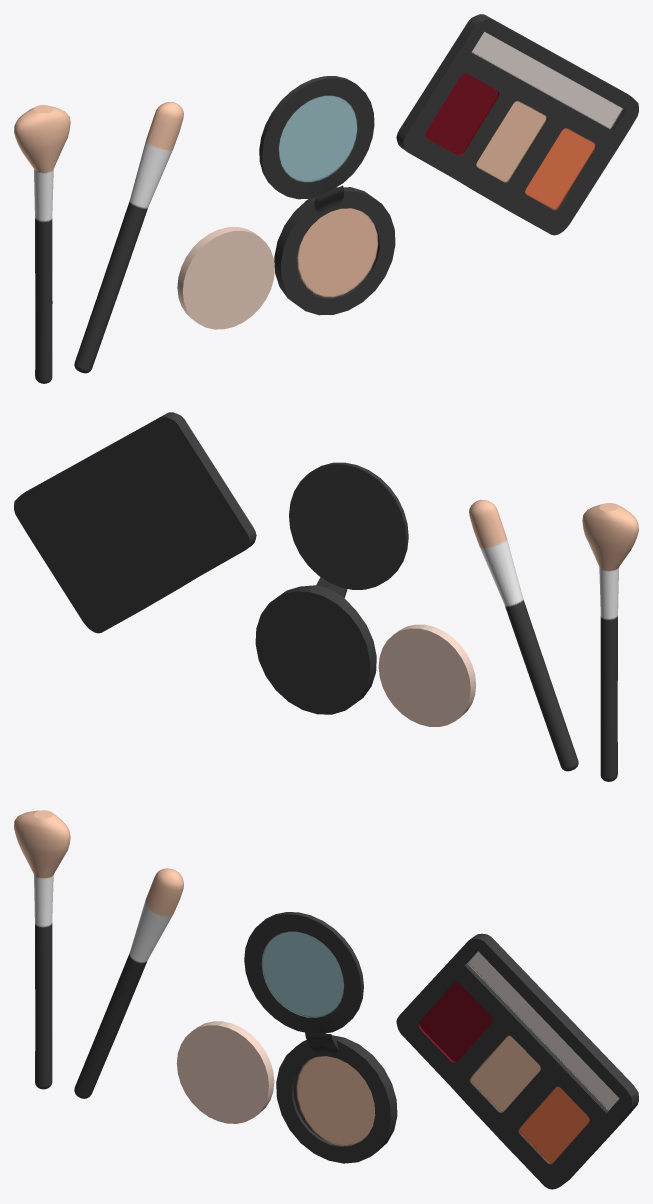
The model's file is Sombras.fbx.
3 renders of one model, top to bottom at view 1: azimuth 30°, elevation 25°; view 2: azimuth 150°, elevation 25°; view 3: azimuth 330°, elevation 25°, orthographic.
Visible parts, largest first — view 1: Sombras; view 2: Sombras; view 3: Sombras.
Boxes of the visible parts, bbox=[...] form: Sombras: bbox=[14, 14, 638, 383]; Sombras: bbox=[14, 412, 638, 781]; Sombras: bbox=[14, 810, 638, 1189].
Bounding box in the file's own units: 0.1955 × 0.0826 × 0.00996.
